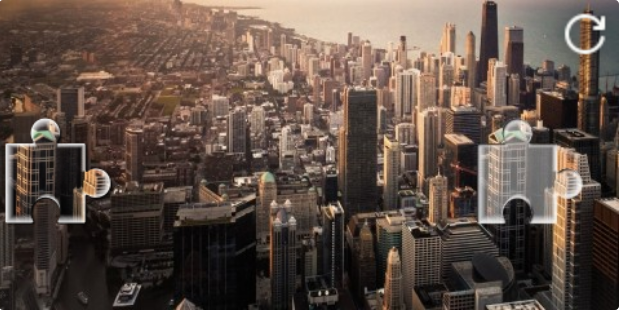target: (479, 120, 584, 223)
